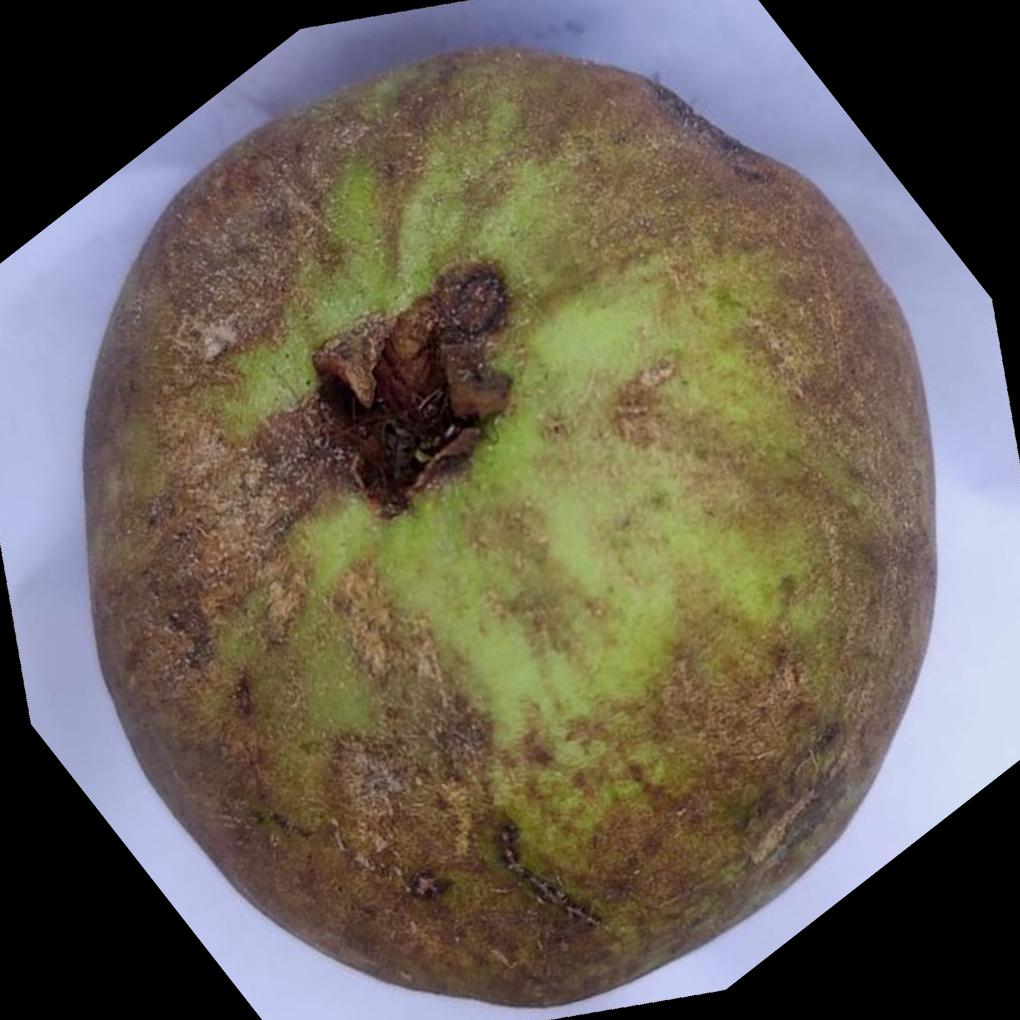FreshOrange: (77, 39, 936, 1006)
